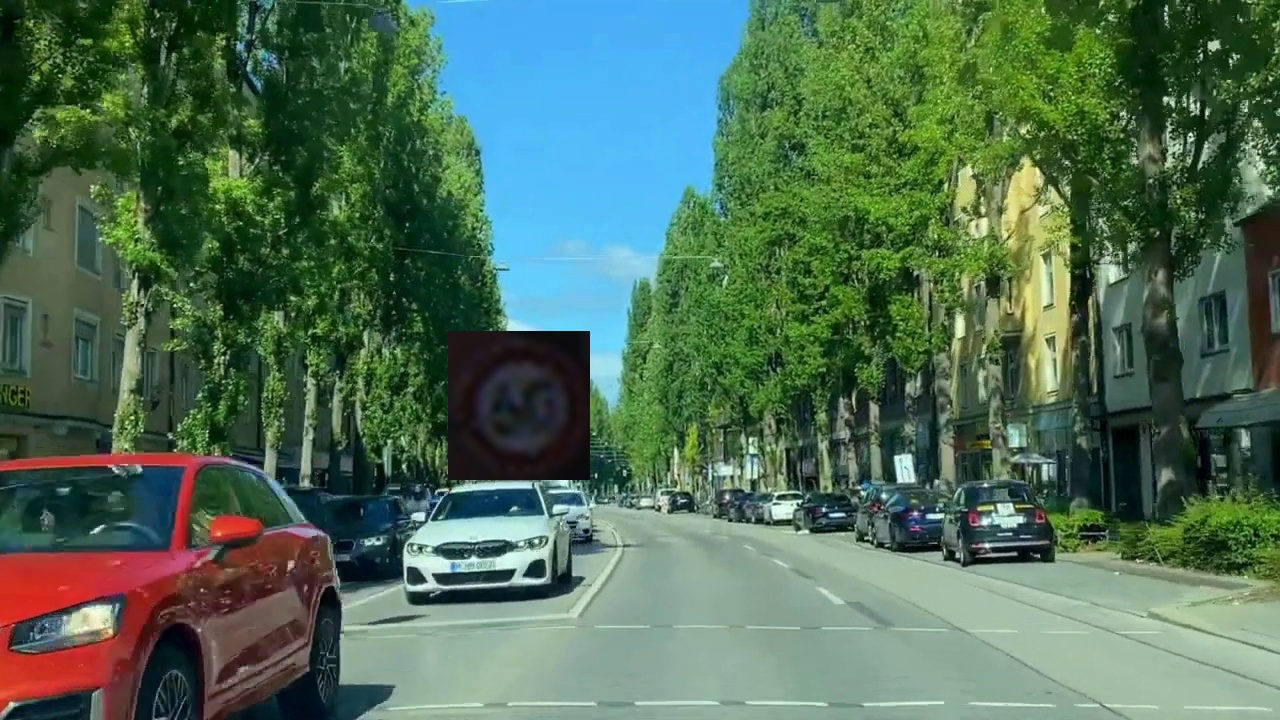Speed 60: (448, 331, 590, 480)
